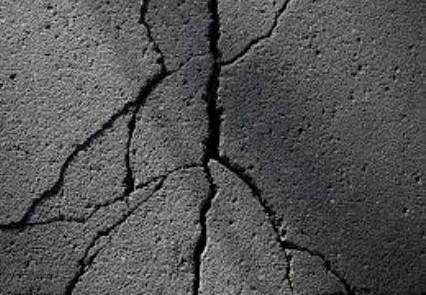alligator-crack: (22, 1, 390, 295)
